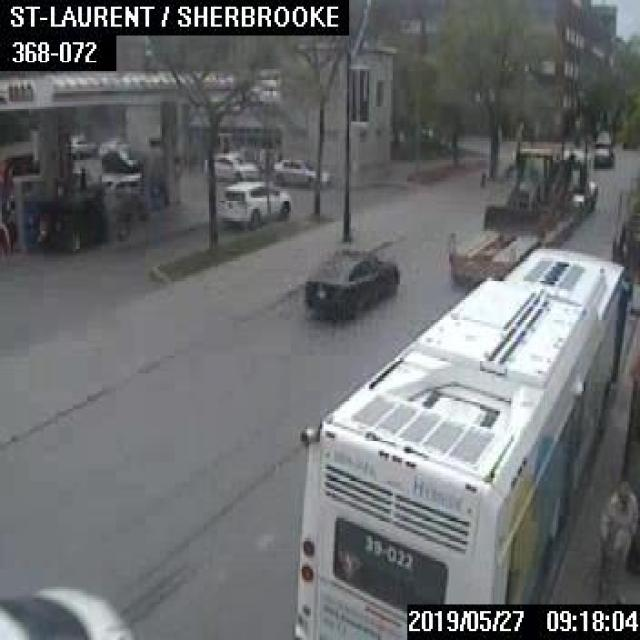bus: (289, 243, 622, 638)
pedestrian: (596, 476, 638, 602)
vehicle: (445, 128, 596, 286), (0, 582, 135, 638), (300, 242, 398, 316), (26, 190, 130, 252), (217, 180, 289, 226), (273, 156, 330, 186), (203, 151, 259, 181), (100, 144, 143, 170), (98, 172, 142, 190), (63, 132, 94, 156), (594, 138, 612, 166)
